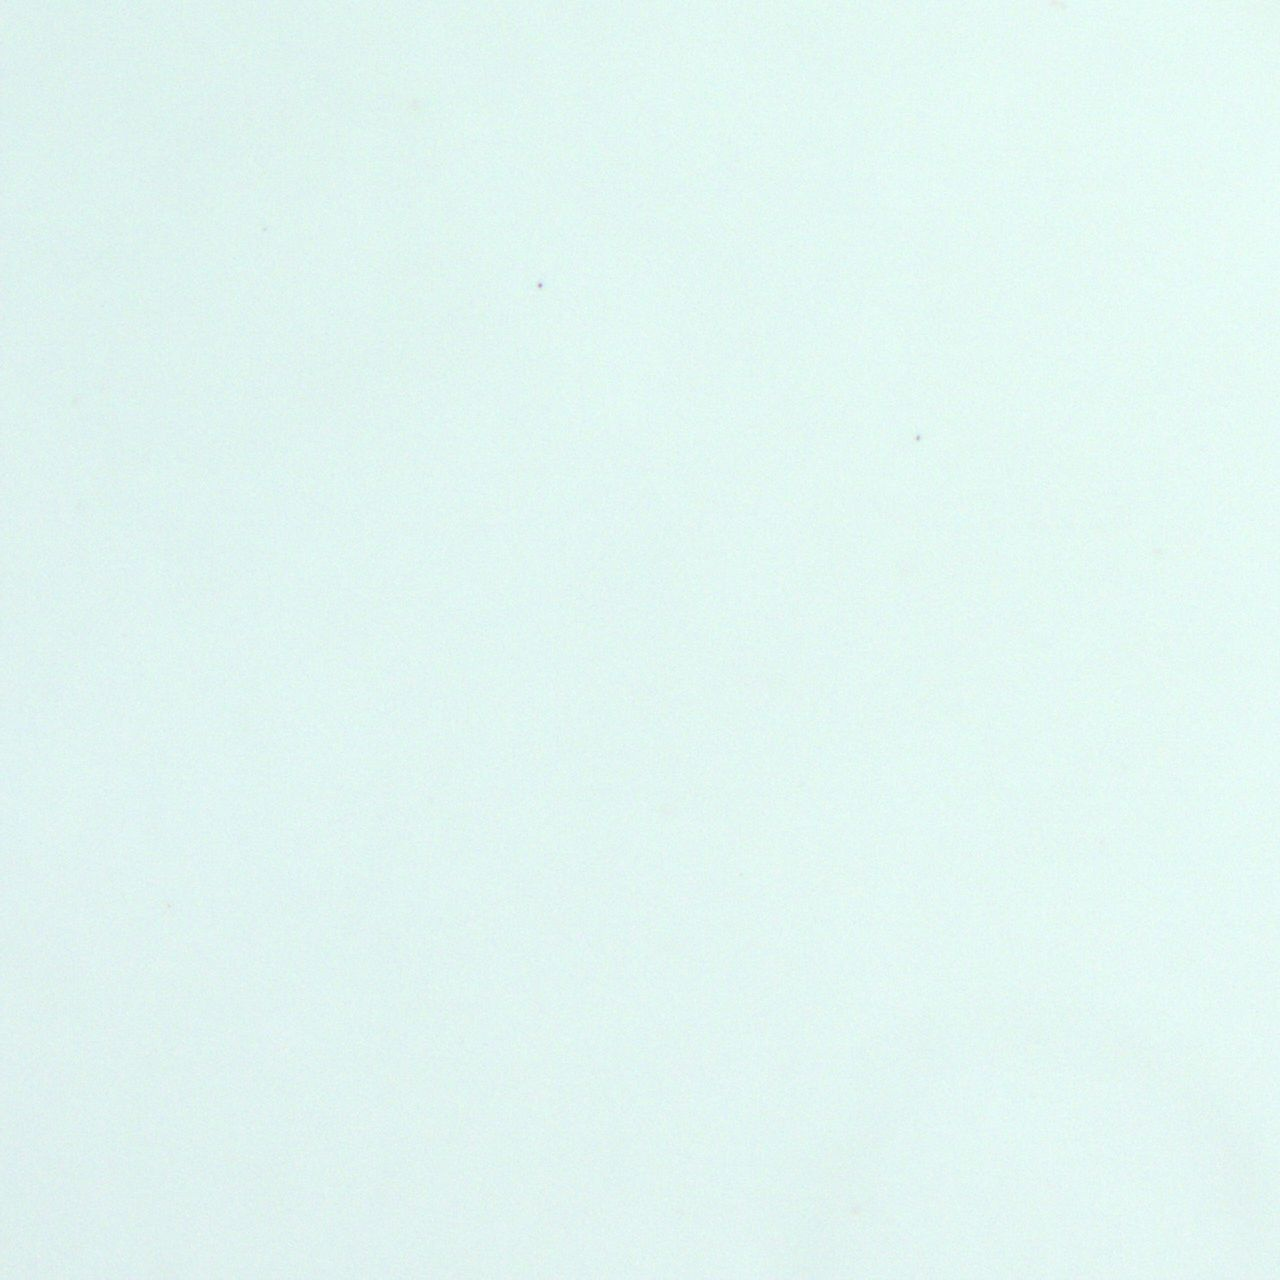dust: (537, 282, 543, 290), (915, 434, 919, 440)
